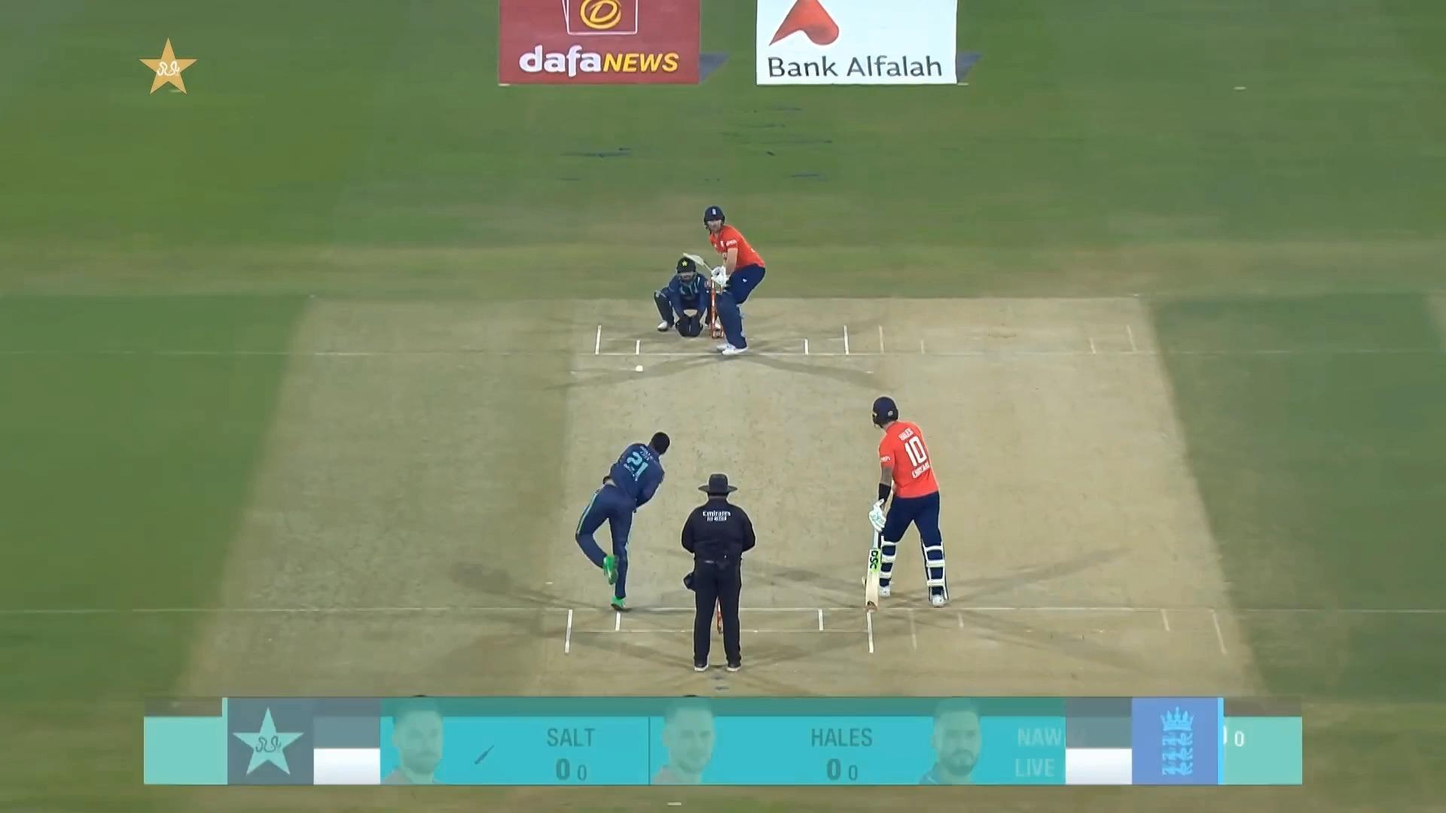BM 1: (682, 206, 766, 355)
BO: (574, 429, 671, 614)
